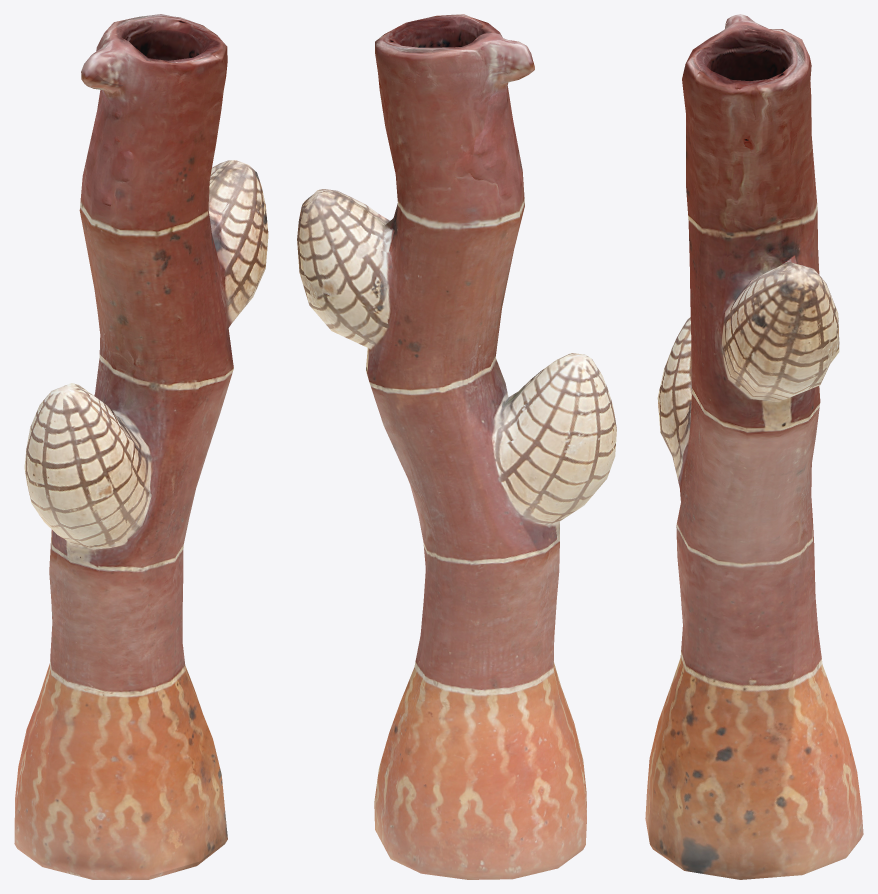
The model's file is objeto_16_nasca.glb.
The picture shows the model from 3 angles, left to right: view 1: azimuth 30°, elevation 25°; view 2: azimuth 150°, elevation 25°; view 3: azimuth 270°, elevation 25°; orthographic projection.
Visible parts, largest first — view 1: Box001_02 - Default_0; view 2: Box001_02 - Default_0; view 3: Box001_02 - Default_0.
Part boxes in pixels (<box>): Box001_02 - Default_0: <box>14,14,268,879</box>; Box001_02 - Default_0: <box>297,14,616,879</box>; Box001_02 - Default_0: <box>645,14,863,879</box>.
Size of the model in its own units: 22.8 by 64.85 by 15.83.
Materials: 1 (1 with a texture image).
